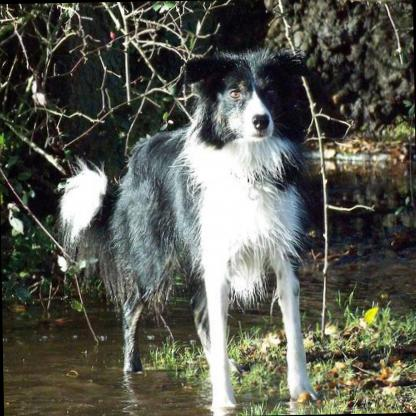Border_collie: (55, 41, 319, 416)
